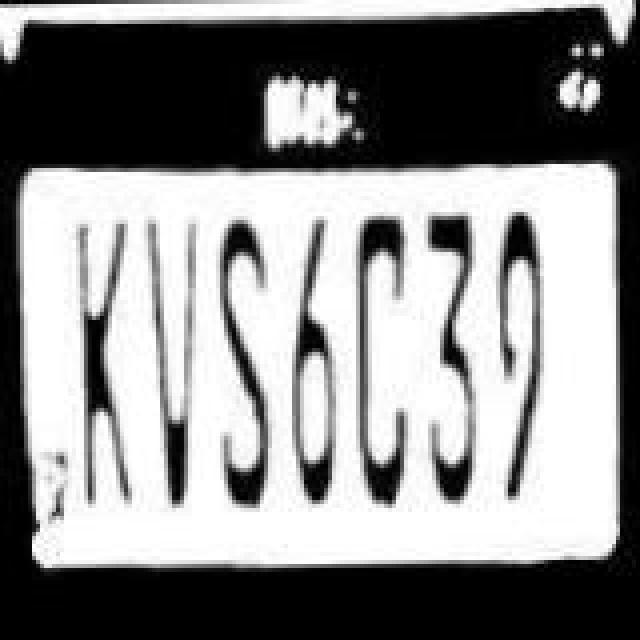3: (422, 214, 494, 530)
6: (280, 212, 356, 520)
9: (492, 208, 568, 520)
C: (356, 216, 424, 528)
K: (54, 202, 134, 510)
S: (204, 208, 280, 512)
V: (138, 202, 202, 518)
